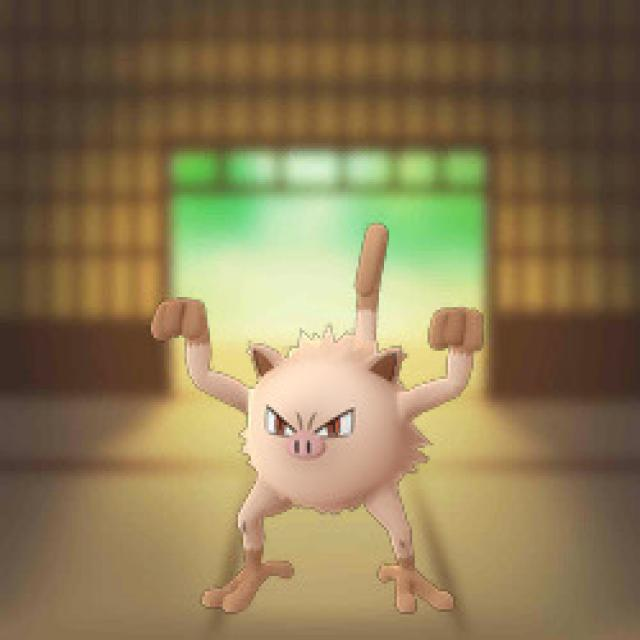Mankey: (181, 304, 480, 616)
